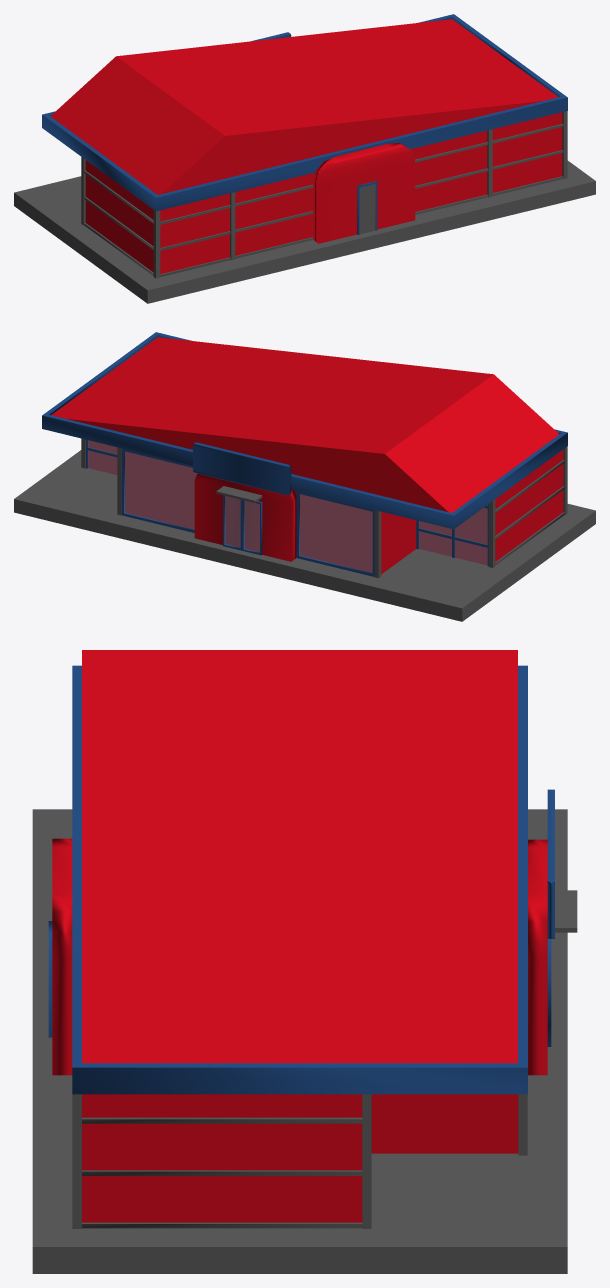
File: Convenience Stores.glb
3 views of the same model, one above another, from view 1: azimuth 30°, elevation 25°; view 2: azimuth 150°, elevation 25°; view 3: azimuth 270°, elevation 25° (orthographic). The views are drawn at different scales.
Visible parts, largest first — view 1: Root; view 2: Root; view 3: Root.
Boxes of the visible parts, <box> form: Root: <box>14,14,595,303</box>; Root: <box>14,332,595,621</box>; Root: <box>32,650,577,1273</box>.
Size of the model in its own units: 20.9 by 6.1 by 11.
